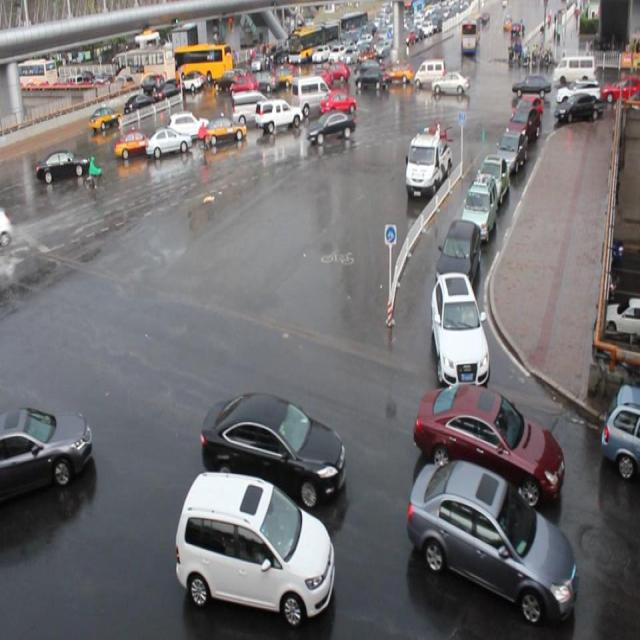bus: (405, 129, 451, 196)
car: (406, 459, 576, 621), (174, 467, 336, 623), (413, 382, 565, 504), (200, 389, 346, 508), (0, 404, 94, 496), (430, 268, 488, 384), (598, 381, 640, 471), (436, 213, 481, 292), (460, 173, 498, 242), (473, 150, 509, 208), (38, 145, 91, 177), (306, 111, 354, 144), (202, 112, 247, 146), (255, 98, 302, 130), (495, 124, 527, 170), (507, 106, 539, 150), (168, 110, 211, 139), (146, 126, 192, 153), (517, 94, 543, 132), (115, 128, 156, 152), (321, 90, 358, 115)
truck: (292, 77, 333, 113), (232, 90, 274, 122)
